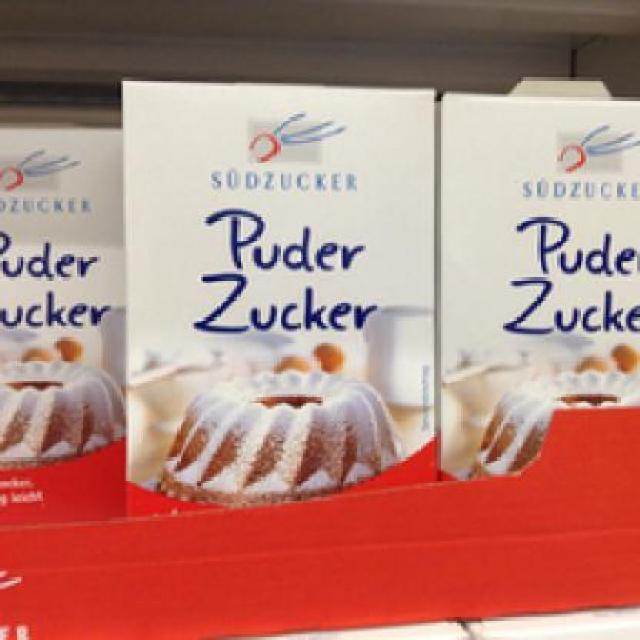Sugar: (117, 71, 434, 512), (434, 86, 637, 480), (0, 120, 120, 520)
